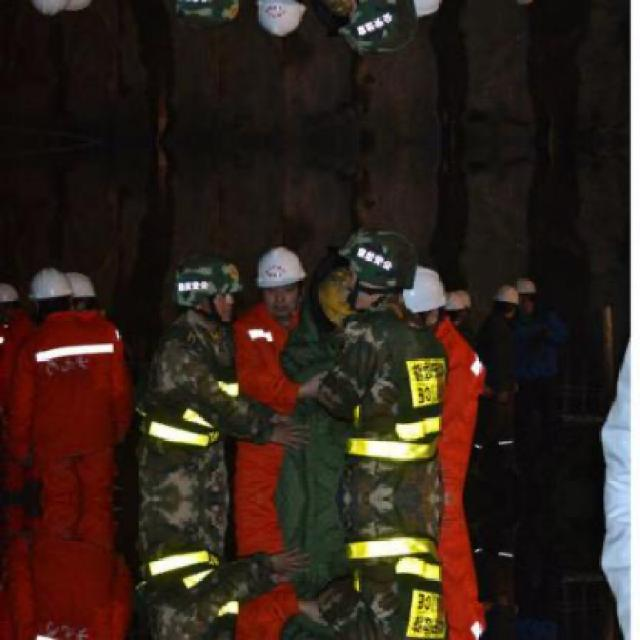con casco: (323, 232, 409, 331), (186, 247, 255, 323), (262, 247, 320, 324), (40, 262, 128, 302), (415, 260, 459, 328), (458, 278, 514, 329)
